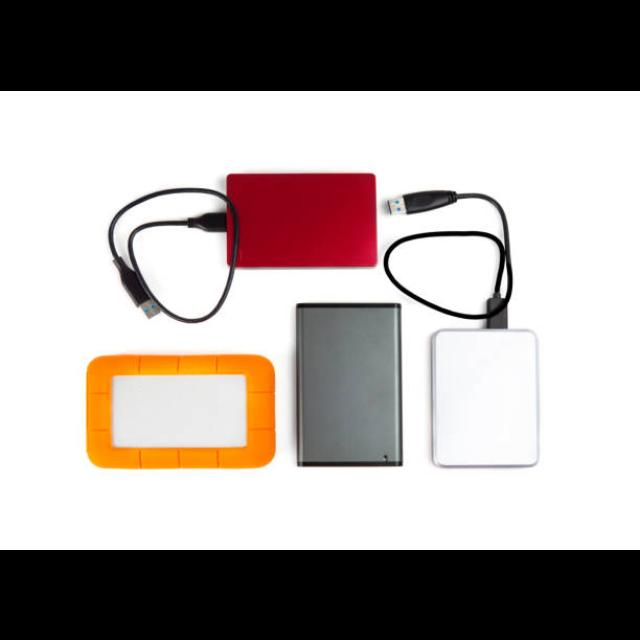HDD: (223, 171, 379, 270)
